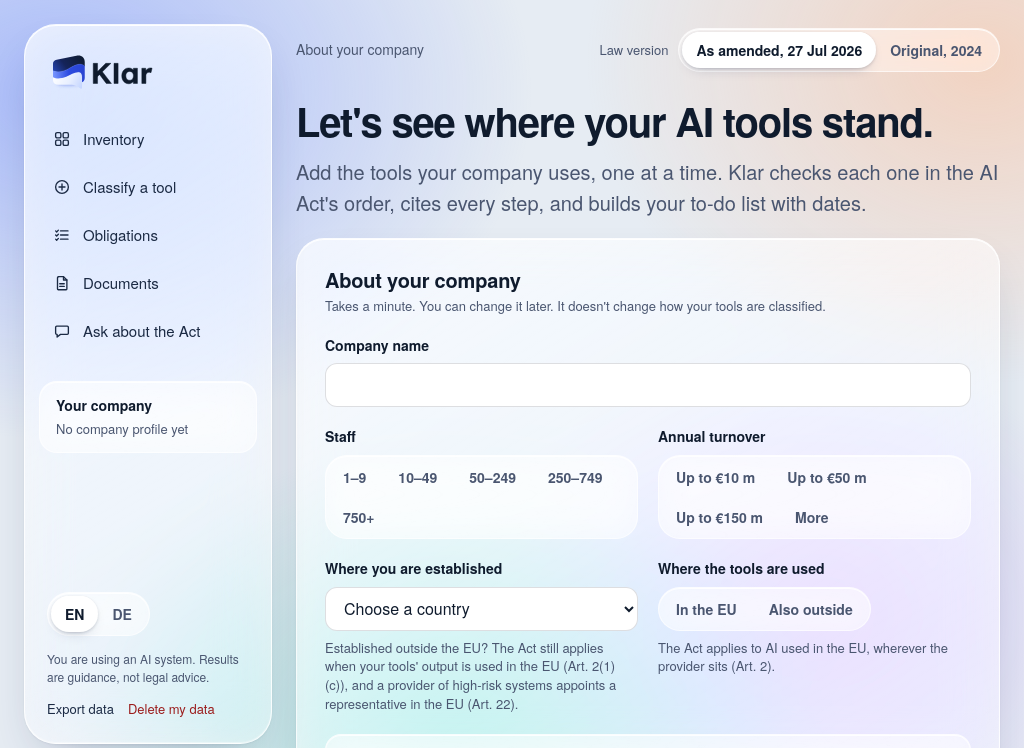
Scenario: Welcome, the derived size line › names a small mid-cap, and says it may still be an SME by balance sheet
The image size is (1024, 748).
Expected: the heading "Let's see where your AI tools stand." is shown, [296,96,1000,146]
Click the button "50–249" at (493,477), box [455,459,530,495]
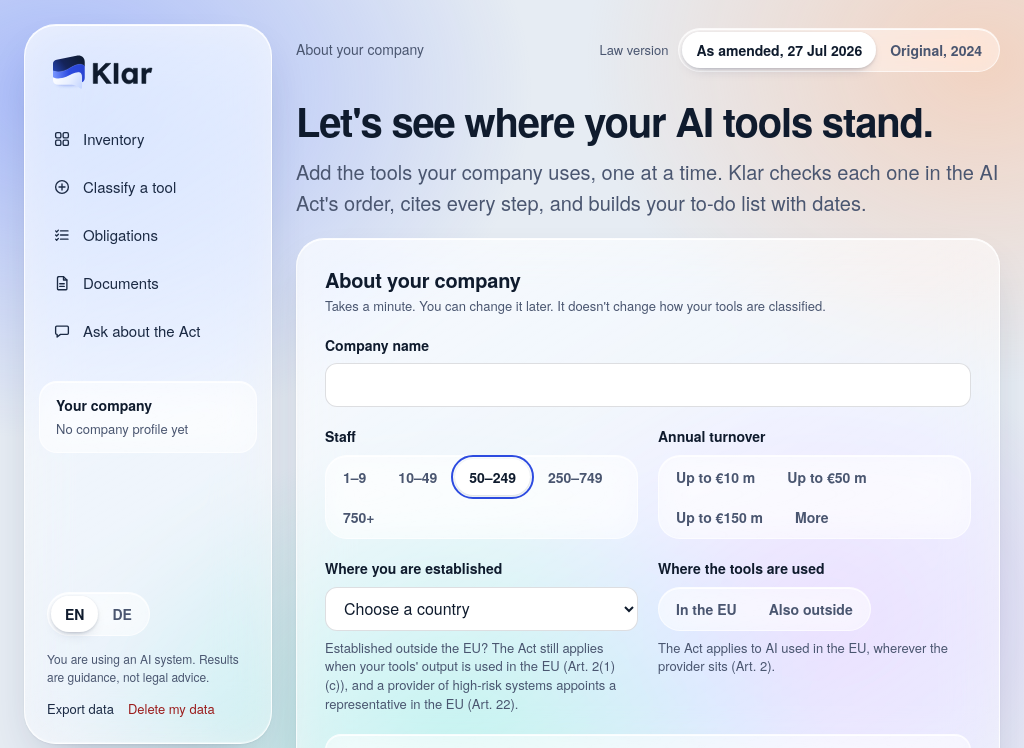
Click the button "Up to €150 m" at (720,517), box [662,499,777,535]
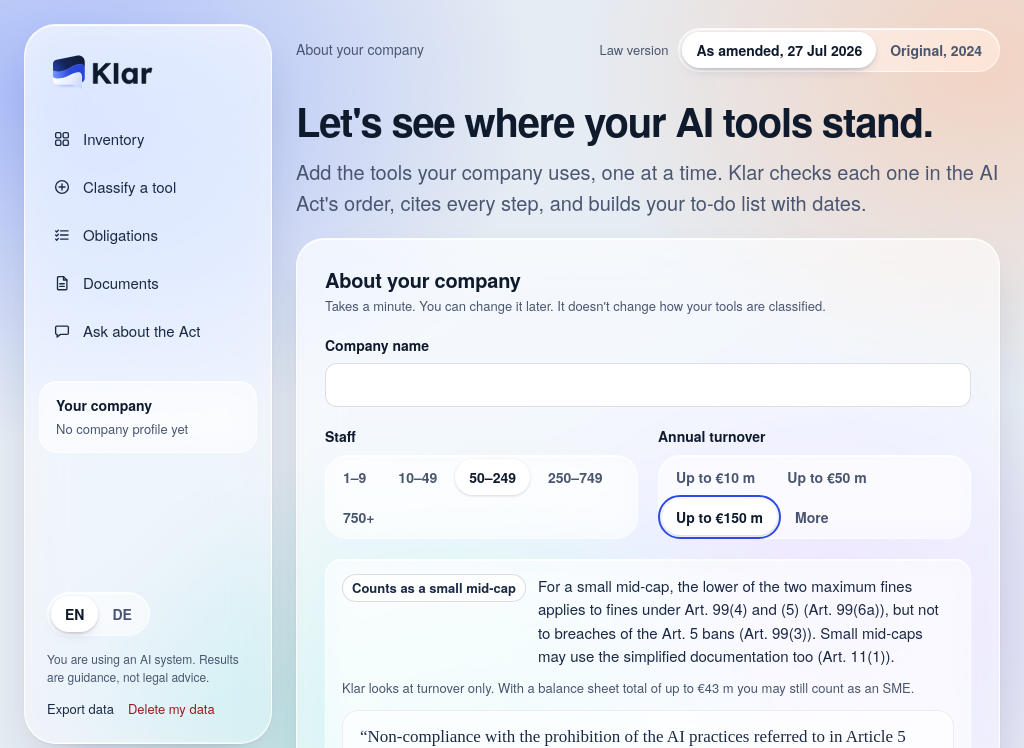
Result: the text "Counts as a small mid-cap" is shown at [342,574,526,602]
Result: the text "may still count as an SME" is shown at [342,678,914,697]
Click the button "250–749" at (575,477), box [534,459,616,495]
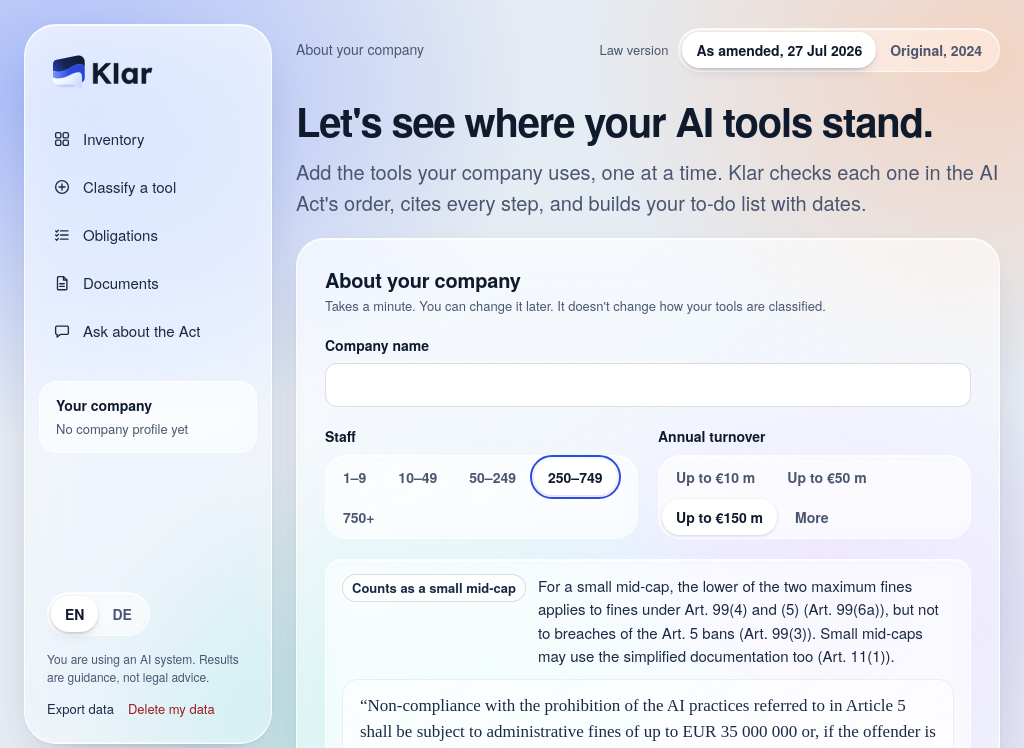
Result: the text "may still count as an SME" is gone
